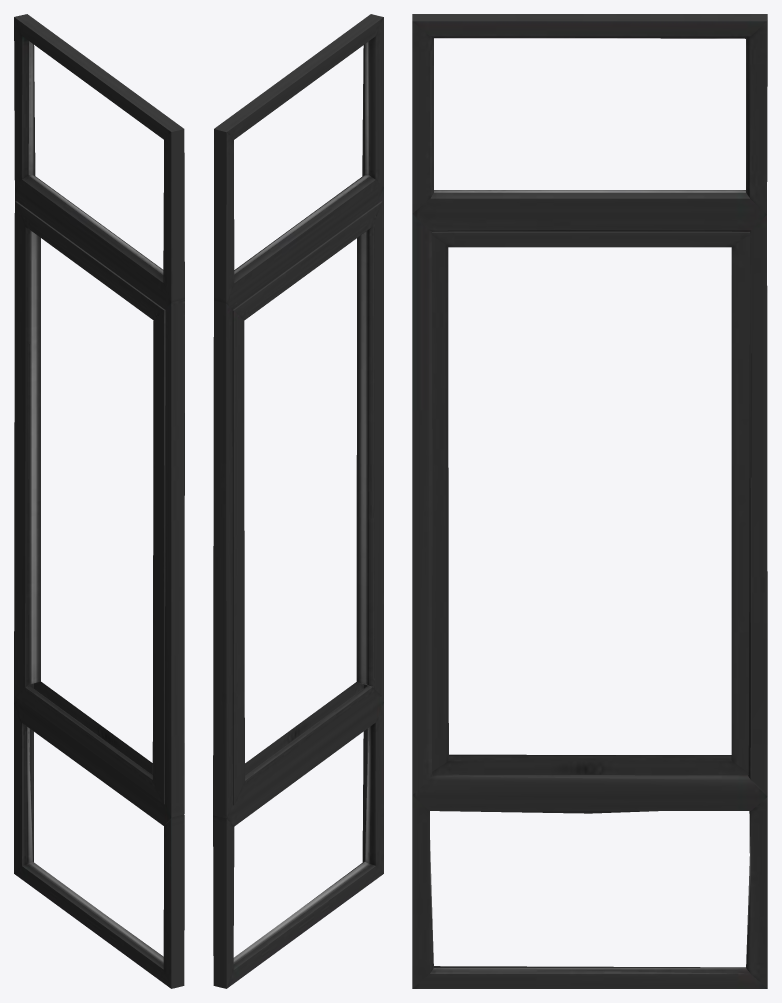
File: Window1_0001.obj
3 renders of one model, left to right at view 1: azimuth 30°, elevation 25°; view 2: azimuth 150°, elevation 25°; view 3: azimuth 270°, elevation 25°, orthographic. The views are drawn at different scales.
Bounding box in the file's own units: 0.033 × 1.57 × 0.524.
1 material, 1 textured.
